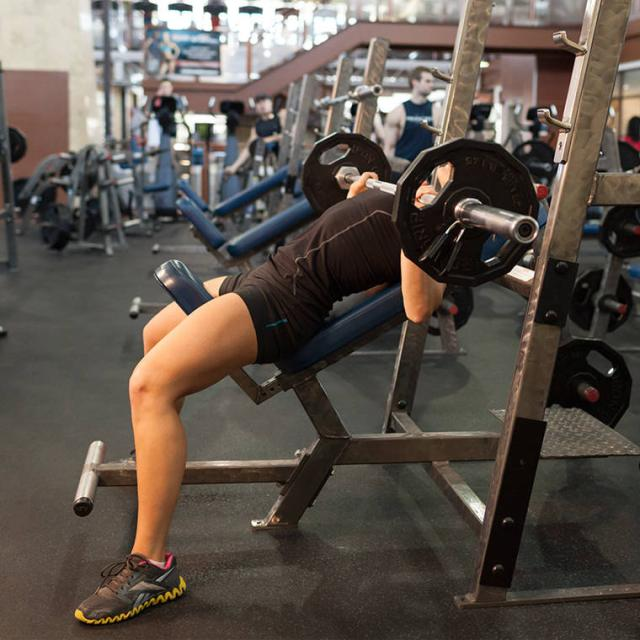bench: (57, 77, 545, 640)
